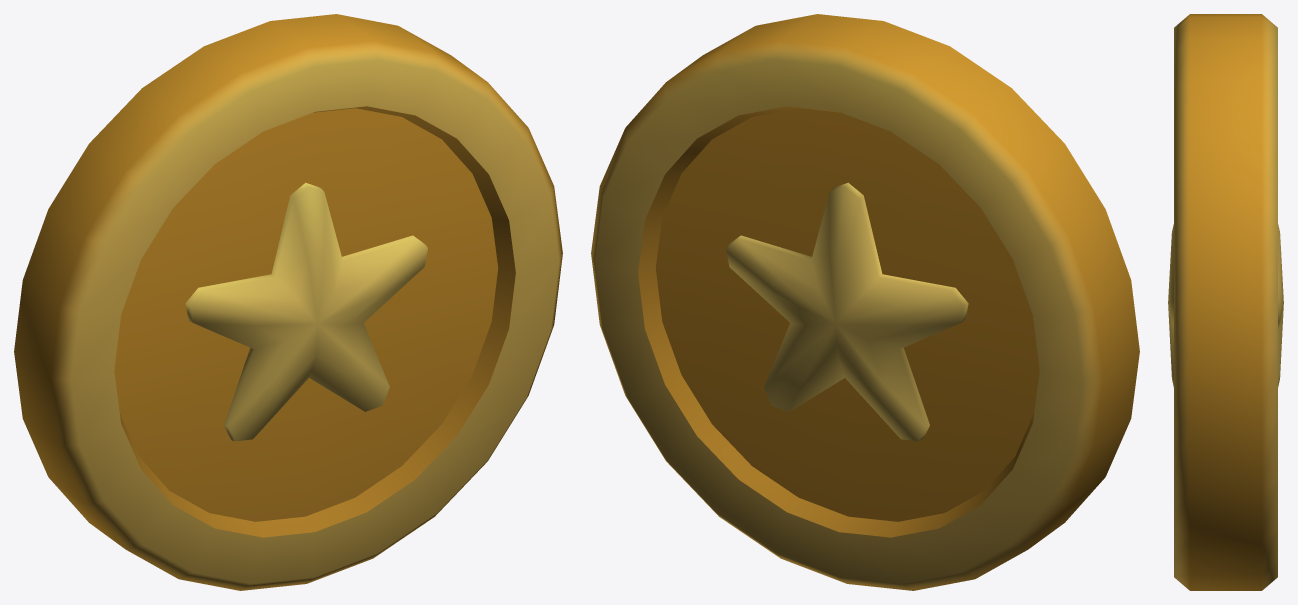
The model's file is Coin.fbx.
3 renders of one model, left to right at view 1: azimuth 30°, elevation 25°; view 2: azimuth 150°, elevation 25°; view 3: azimuth 270°, elevation 25°, orthographic. The views are drawn at different scales.
Parts seen in each view (by area): view 1: Coin; view 2: Coin; view 3: Coin.
Boxes of the visible parts, x1=… form: Coin: x1=14, y1=14, x2=562, y2=590; Coin: x1=591, y1=14, x2=1139, y2=590; Coin: x1=1168, y1=14, x2=1283, y2=590.
Size of the model in its own units: 0.5 by 0.5 by 0.1.
